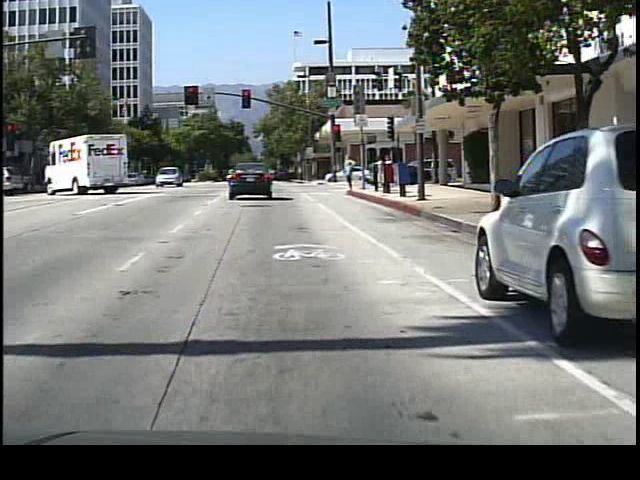person: (341, 151, 363, 196)
